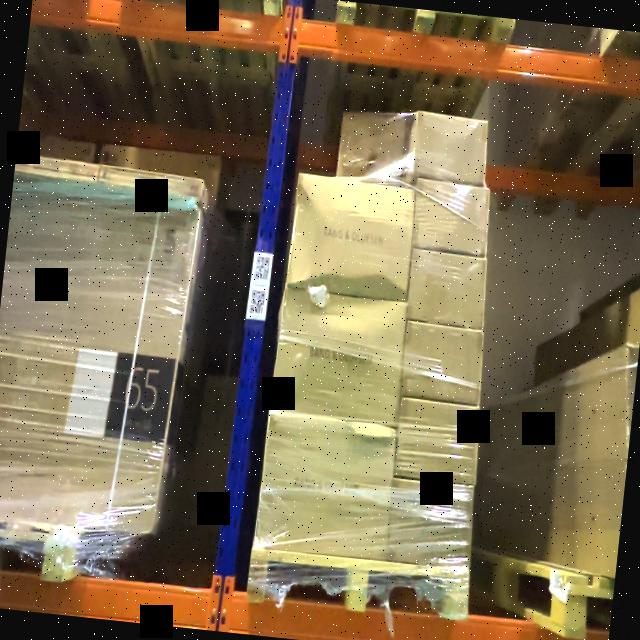box: (0, 175, 191, 529), (253, 414, 398, 560), (270, 291, 406, 423), (286, 176, 414, 296), (388, 481, 474, 569), (396, 400, 482, 484), (401, 324, 484, 402), (408, 251, 487, 327), (414, 182, 489, 254), (415, 113, 489, 183), (336, 112, 409, 182)
